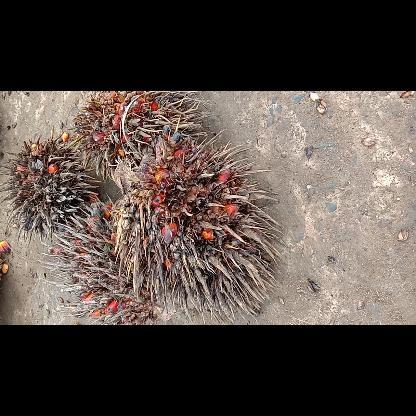Terlalu masak: (104, 122, 288, 324), (38, 196, 180, 324), (62, 91, 212, 177), (0, 132, 106, 248)
